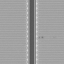dust: (41, 35, 44, 39), (38, 37, 40, 39)
